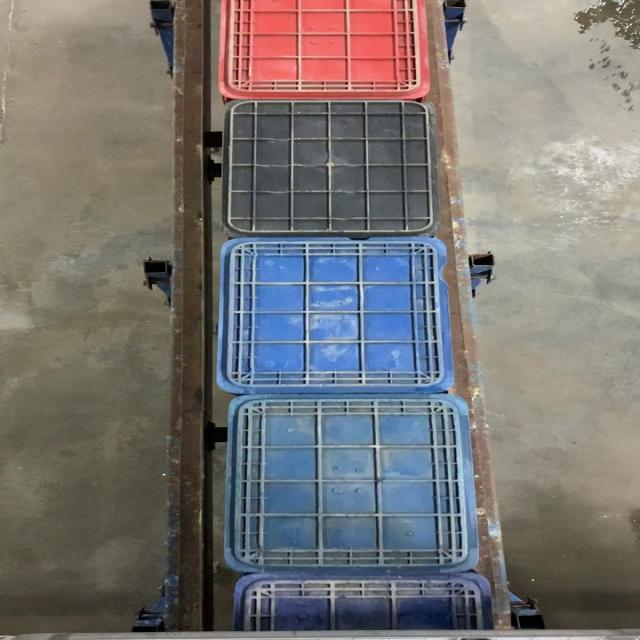Box: (222, 396, 480, 572), (218, 239, 456, 395), (221, 101, 437, 237)
